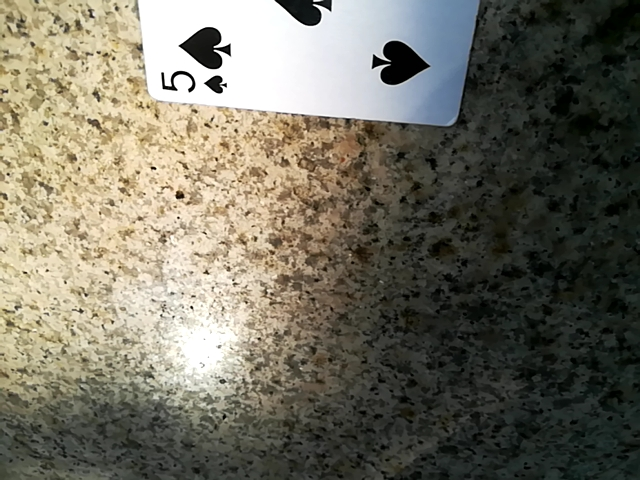ht 5: (127, 0, 504, 128)
